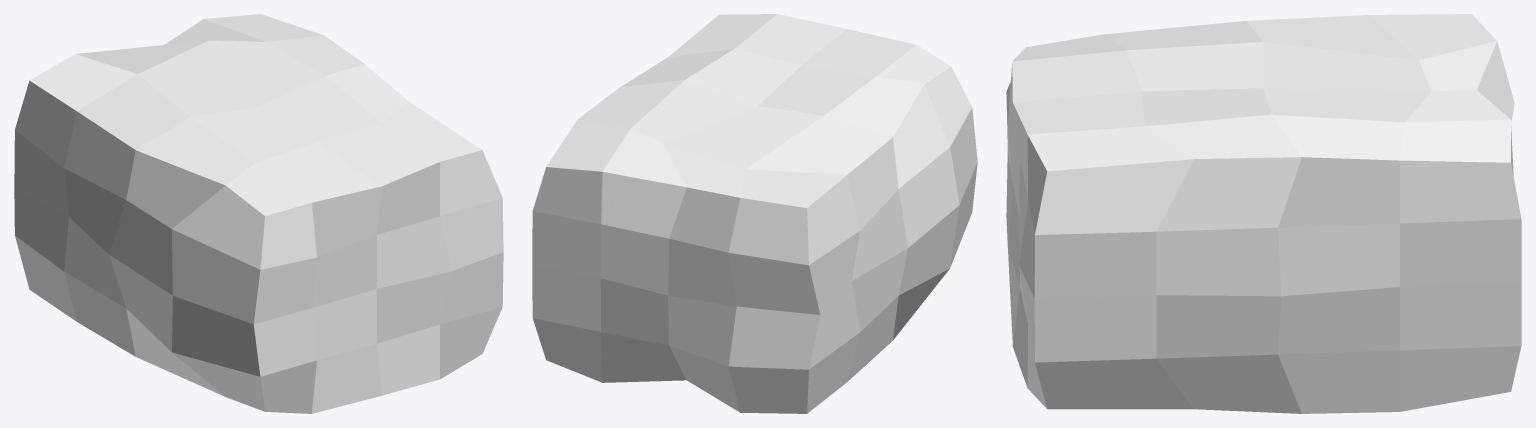
Rendered from Steinmauer_einzelne_Brocken_1Stueck.fbx.
The picture shows the model from 3 angles, left to right: view 1: azimuth 30°, elevation 25°; view 2: azimuth 150°, elevation 25°; view 3: azimuth 270°, elevation 25°; orthographic projection. The views are drawn at different scales.
Visible parts, largest first — view 1: Steinblock.006; view 2: Steinblock.006; view 3: Steinblock.006.
Part boxes in pixels (bbox=[...]): Steinblock.006: bbox=[14, 14, 503, 413]; Steinblock.006: bbox=[532, 14, 977, 413]; Steinblock.006: bbox=[1006, 14, 1521, 413].
Bounding box in the file's own units: 116 × 89.21 × 148.
